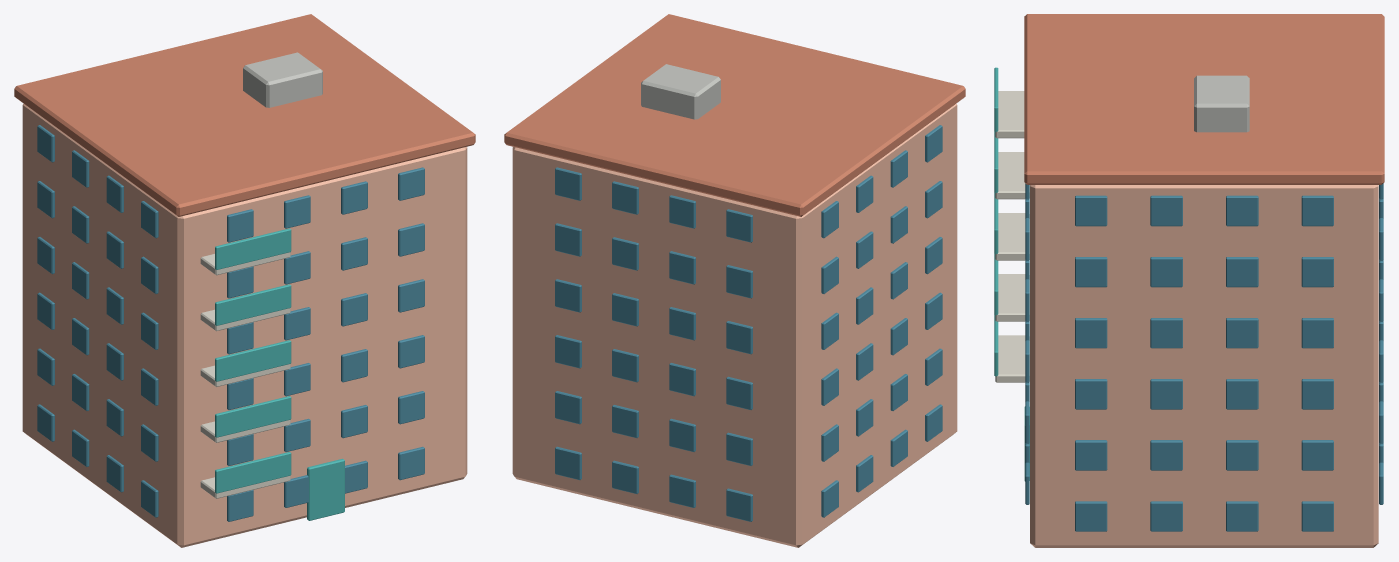
The model's file is RES_MID_2x2_003.glb.
3 renders of one model, left to right at view 1: azimuth 30°, elevation 25°; view 2: azimuth 150°, elevation 25°; view 3: azimuth 270°, elevation 25°, orthographic. The views are drawn at different scales.
Parts seen in each view (by area): view 1: RES_MID_2x2_003_Visual; view 2: RES_MID_2x2_003_Visual; view 3: RES_MID_2x2_003_Visual.
Part boxes in pixels (x1=…): RES_MID_2x2_003_Visual: x1=14, y1=14, x2=475, y2=547; RES_MID_2x2_003_Visual: x1=504, y1=14, x2=965, y2=547; RES_MID_2x2_003_Visual: x1=994, y1=14, x2=1384, y2=547.
Size of what is drawn, in the model's own units: 3.25 by 3.87 by 3.36.
